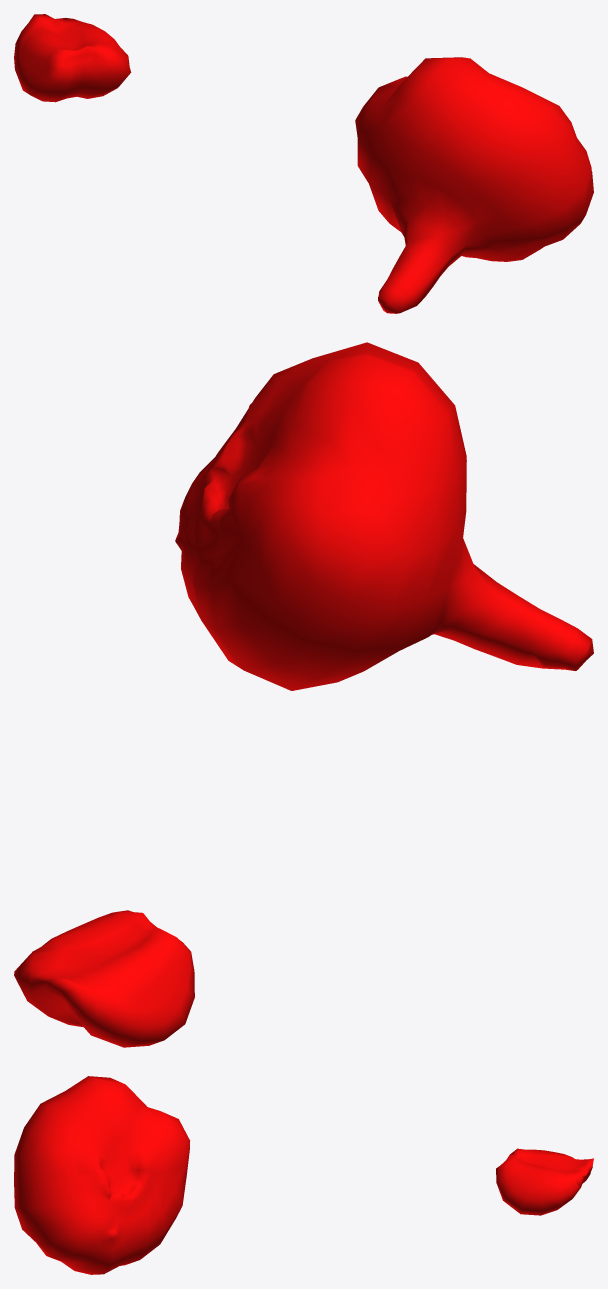
Rendered from garlic.FBX.
3 renders of one model, top to bottom at view 1: azimuth 30°, elevation 25°; view 2: azimuth 150°, elevation 25°; view 3: azimuth 270°, elevation 25°, orthographic. The views are drawn at different scales.
Parts seen in each view (by area): view 1: garlic1, garlic2; view 2: garlic1, garlic2; view 3: garlic1, garlic2.
Part boxes in pixels (bbox=[...]): garlic1: bbox=[355, 57, 593, 313]; garlic2: bbox=[14, 14, 131, 102]; garlic1: bbox=[175, 342, 593, 690]; garlic2: bbox=[14, 910, 194, 1047]; garlic1: bbox=[14, 1076, 189, 1274]; garlic2: bbox=[496, 1148, 593, 1215].
Size of the model in its own units: 0.0598 by 0.0433 by 0.1332.
